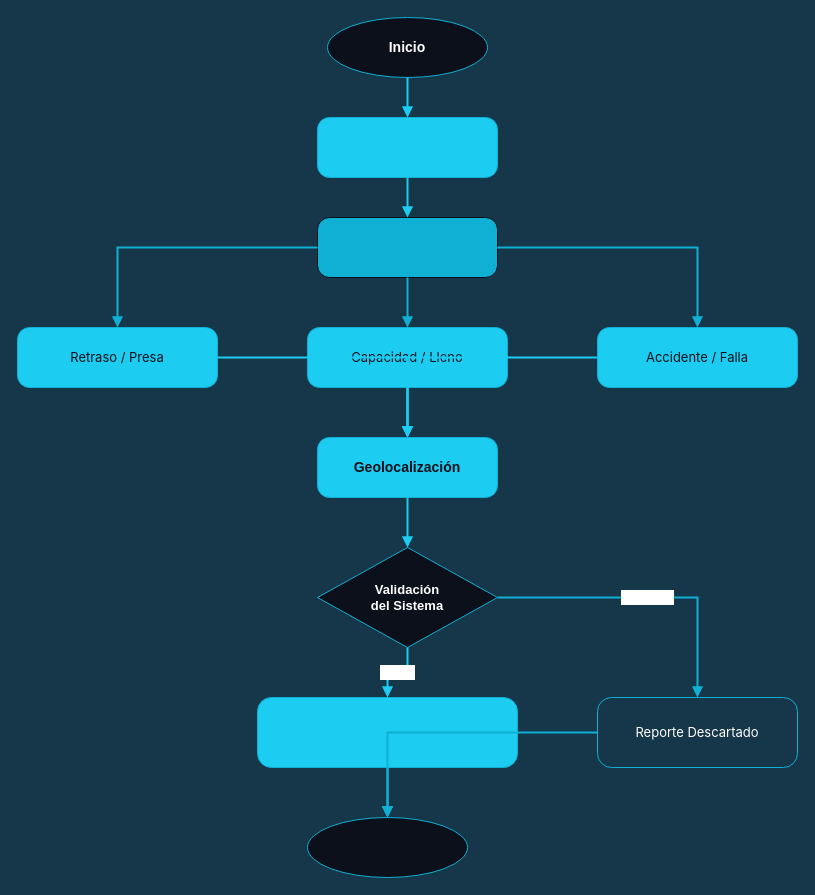
Some shapes in this 815 by 895 pixel diagram are drawn without their labels. Each missing label, with the centre of its shape:
Actualización en Mapa y Notificación a la Empresa: the point at 387,732
Fin: the point at 387,847
Pasajero en Ruta: the point at 407,147
Reportar Estado: the point at 407,247
